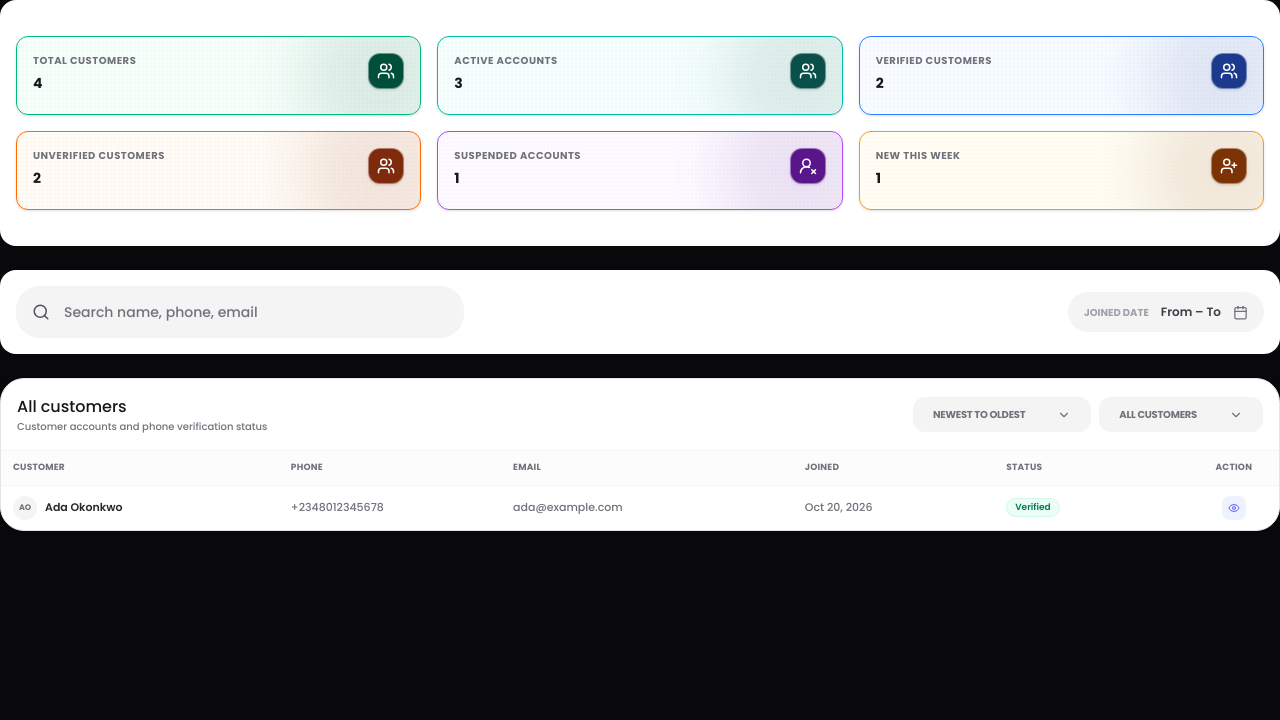
Test case: Super Admin customers › loads live overview, orders, and referral wallet data without invented transaction history
Expected: the text "Ada Okonkwo" is shown, [45,499,122,516]
Click the button named "View Ada Okonkwo" at point(1234, 508), box [1222,496,1246,520]
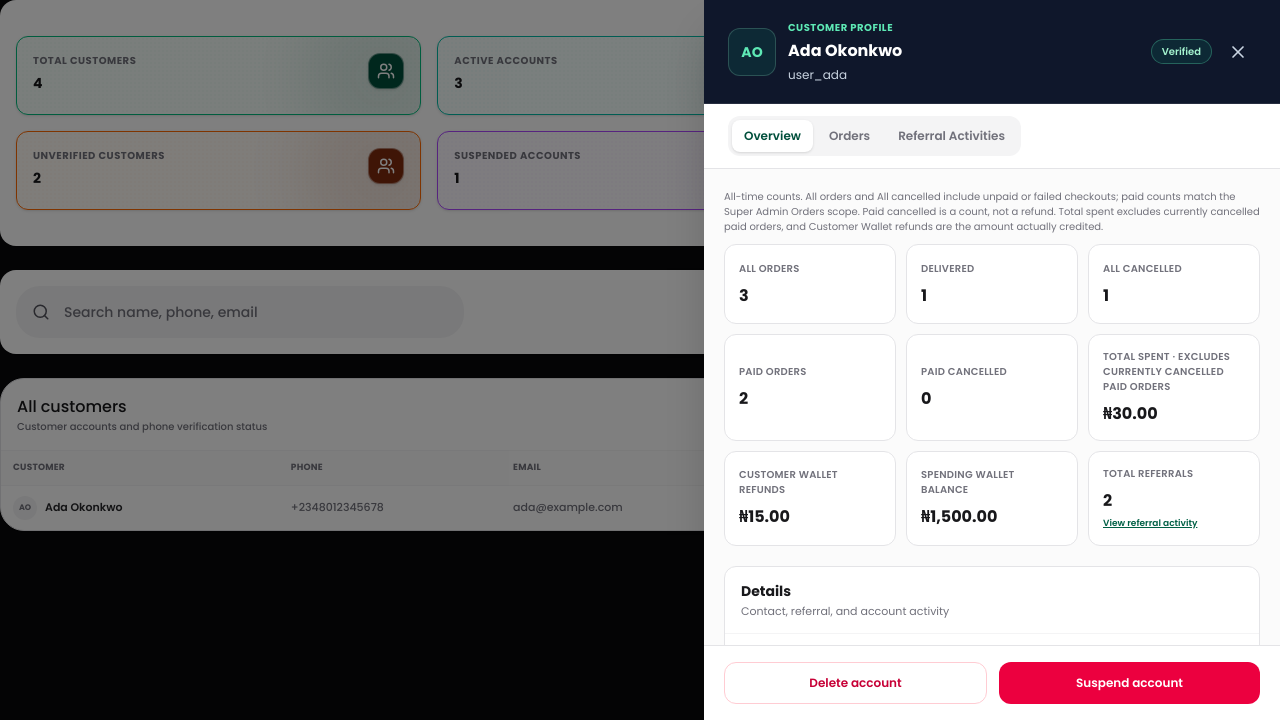
Expected: the text "Spending Wallet Balance" is shown, [921,467,1015,497]
Expected: the text "Total Spent · excludes currently cancelled paid orders" is shown, [1103,349,1245,394]
Expected: the text "include unpaid or failed checkouts" is shown, [724,189,1260,234]
Click the button "Orders" at point(850, 136), box [817,120,882,152]
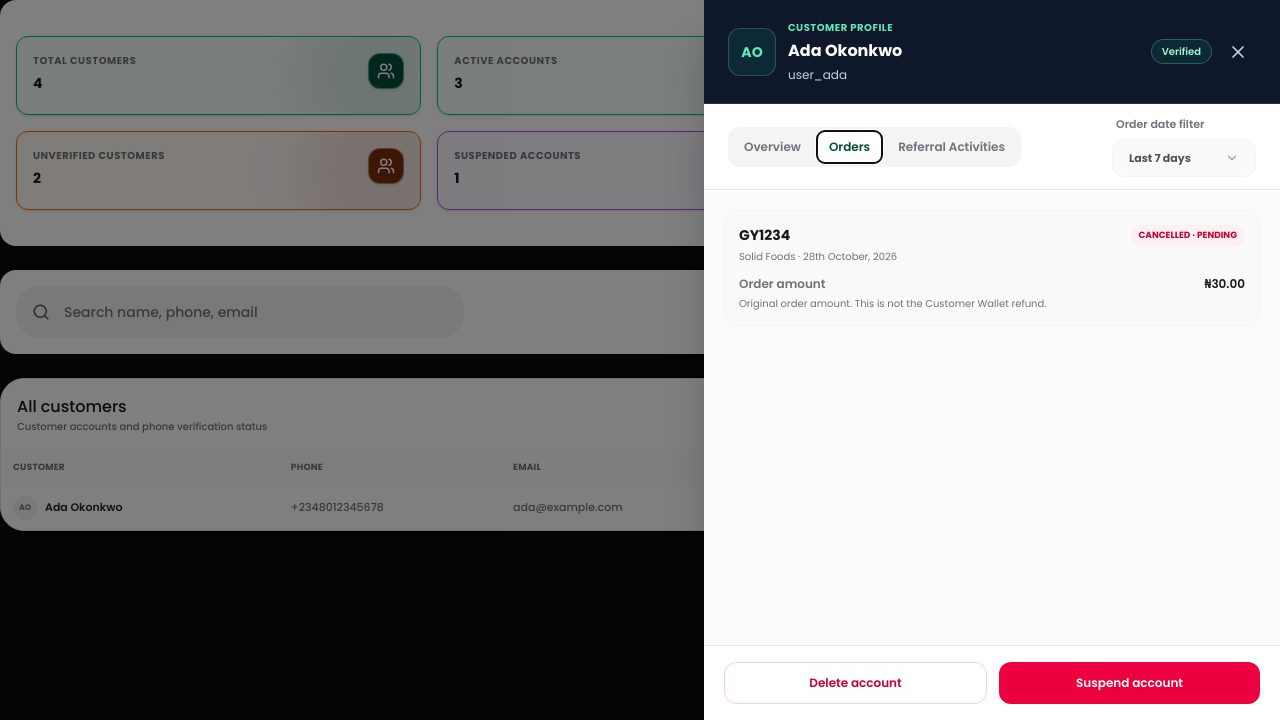
Expected: the heading "GY1234" is shown, [739,225,790,245]
Click the button "Referral Activities" at point(952, 146), box [886,130,1017,162]
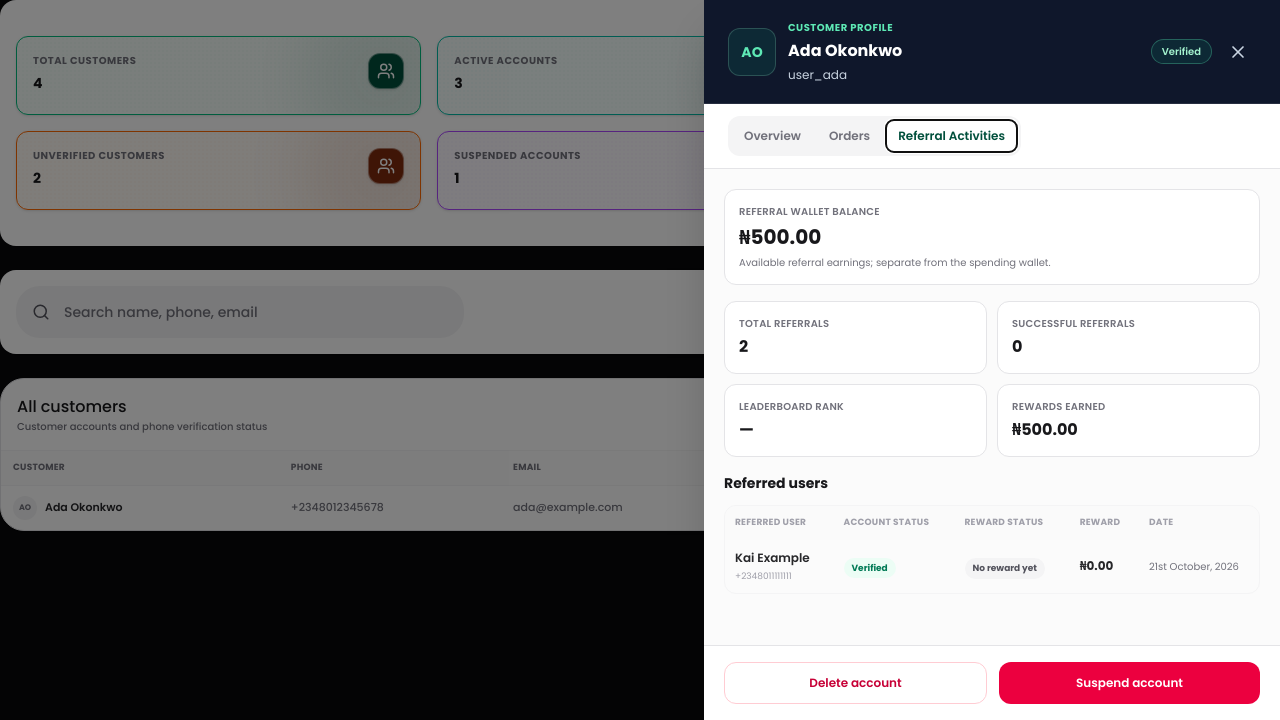
Expected: the text "Referral wallet balance" is shown, [739,204,880,219]
Expected: the text "₦500.00" is shown 2 times, [739,223,821,251]; [1012,418,1078,441]
Expected: the text "Kai Example" is shown, [735,548,810,566]
